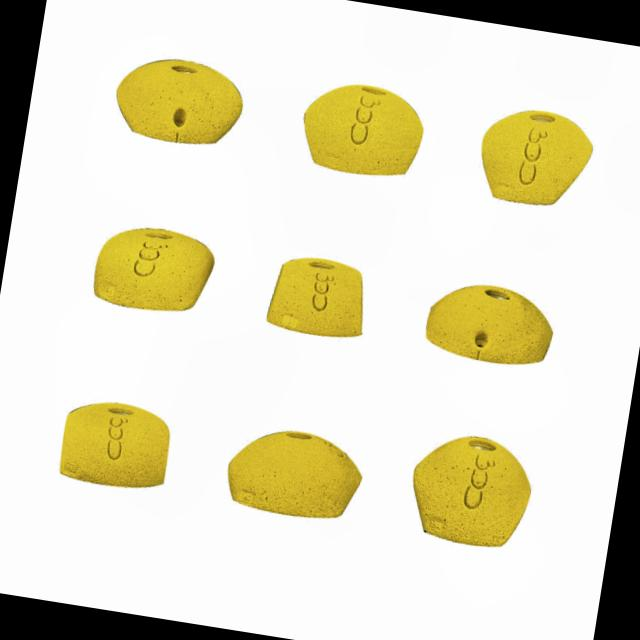Hold: (402, 428, 544, 552), (213, 415, 371, 526), (470, 100, 600, 218), (297, 78, 436, 188), (106, 48, 253, 152), (83, 218, 224, 322), (58, 384, 189, 494), (424, 267, 560, 369), (263, 250, 378, 346)
